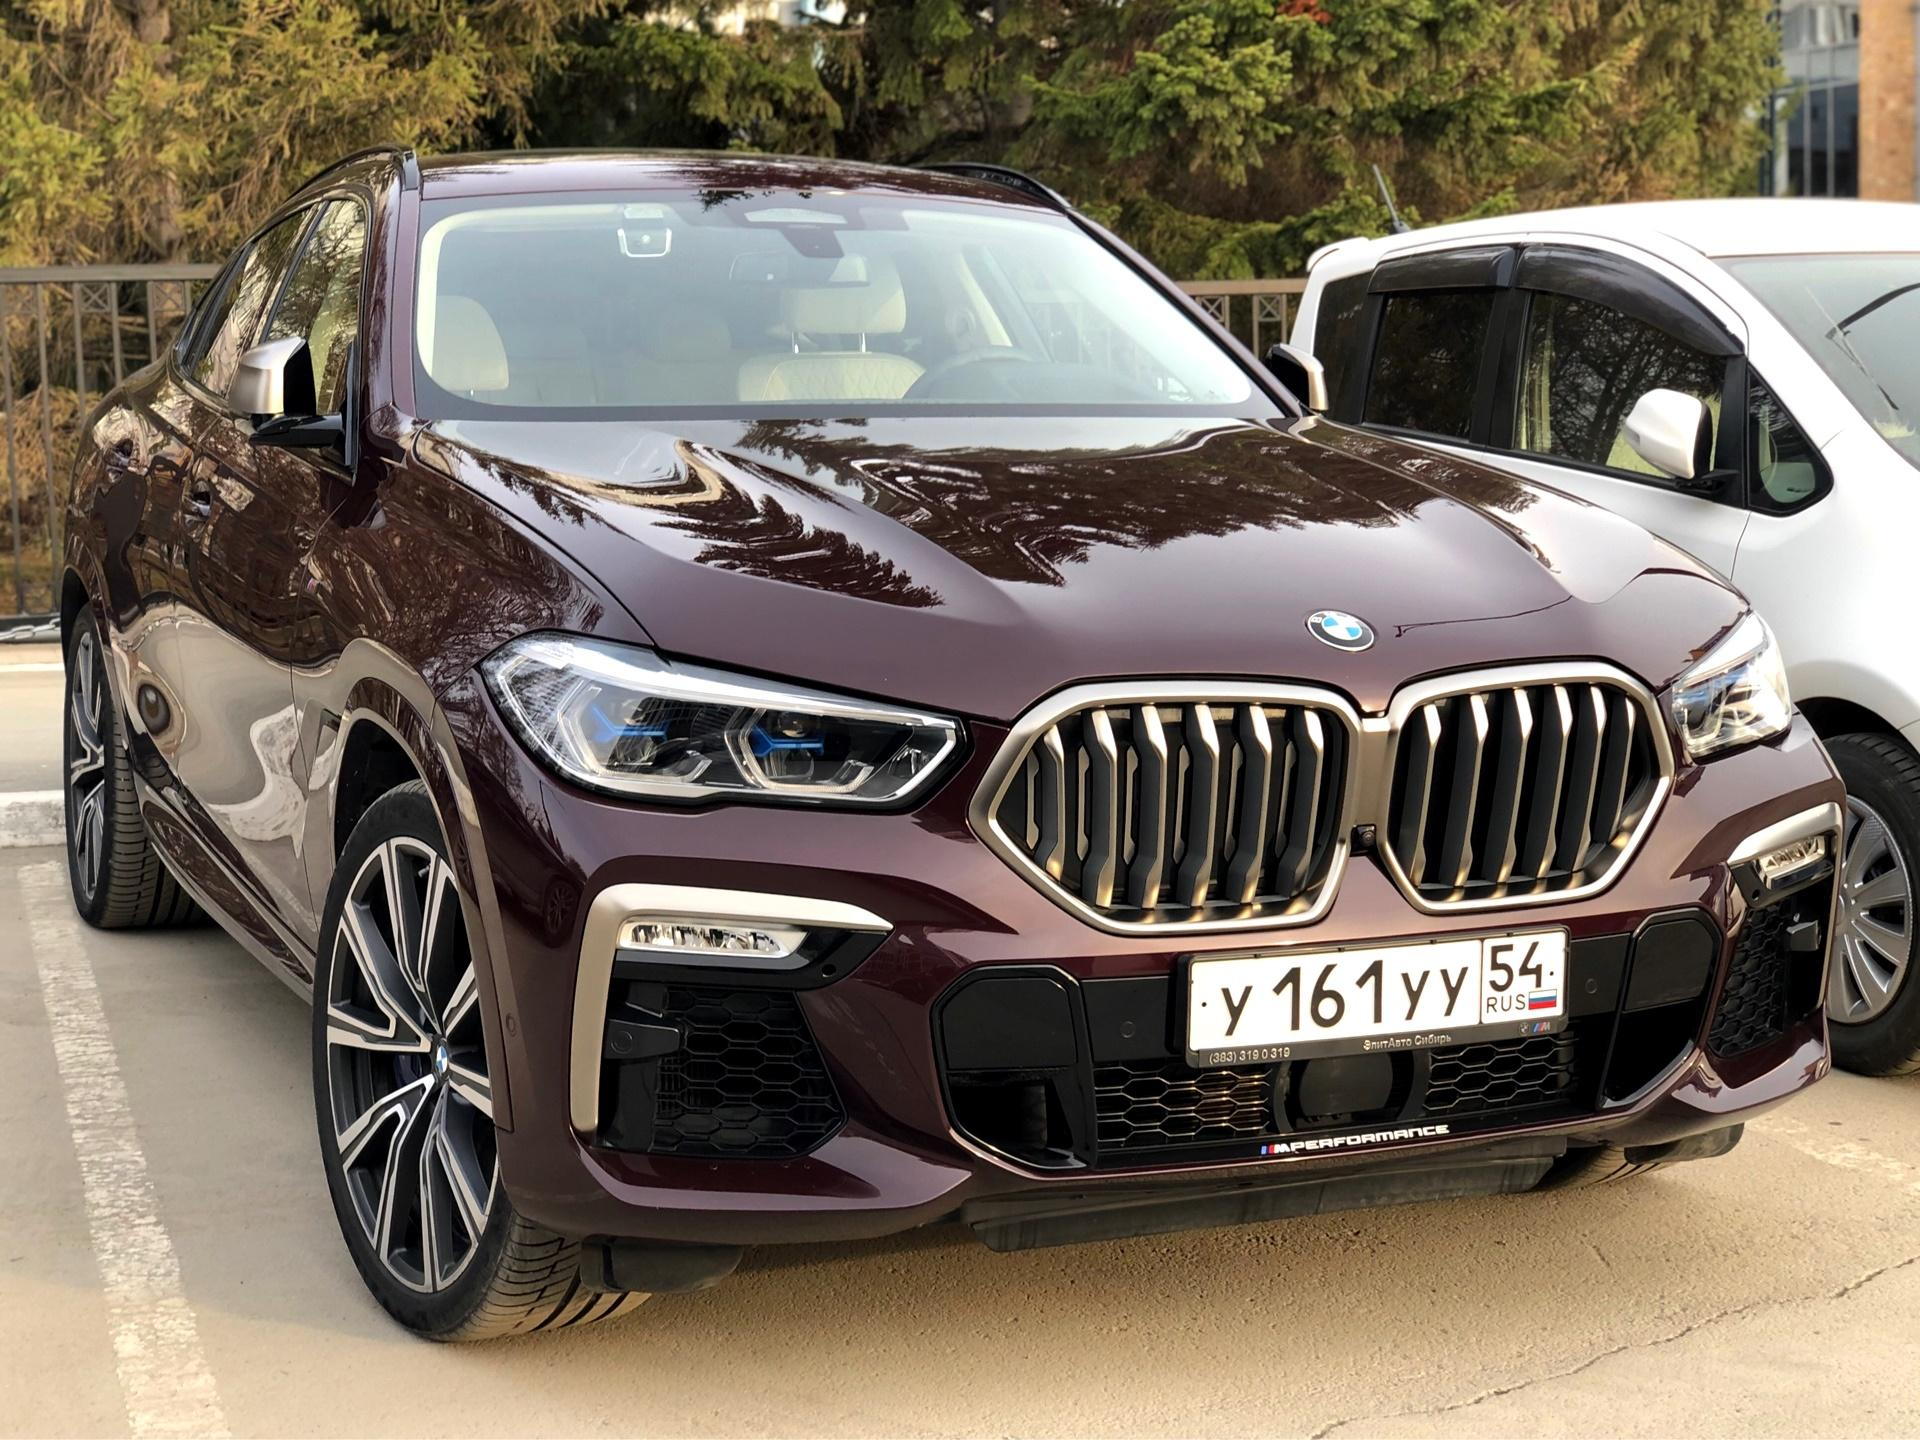license-plateSW: (1194, 923, 1575, 1049)
